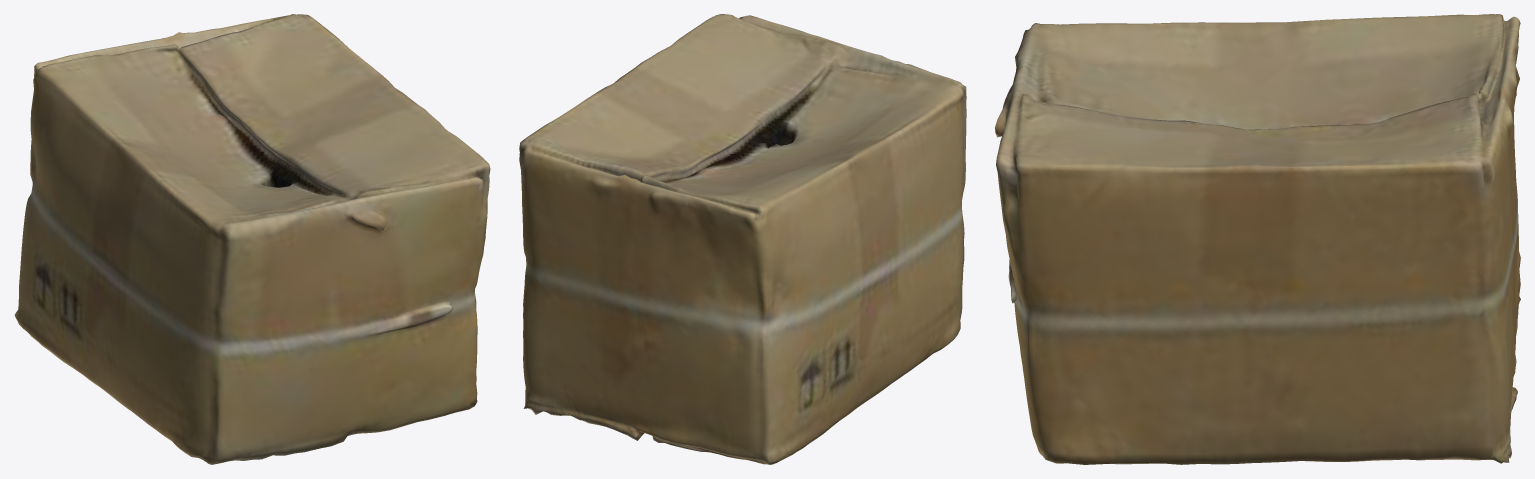
File: cardboard-box.glb
3 views of the same model, side by side, from view 1: azimuth 30°, elevation 25°; view 2: azimuth 150°, elevation 25°; view 3: azimuth 270°, elevation 25° (orthographic). The views are drawn at different scales.
Visible parts, largest first — view 1: cardboard_box_01; view 2: cardboard_box_01; view 3: cardboard_box_01.
Part boxes in pixels (x1,y1,x2,y2): cardboard_box_01: (14, 14, 490, 464); cardboard_box_01: (519, 14, 966, 464); cardboard_box_01: (995, 14, 1520, 464).
Size of the model in its own units: 0.387 by 0.3418 by 0.5159.
1 material, 1 textured.
